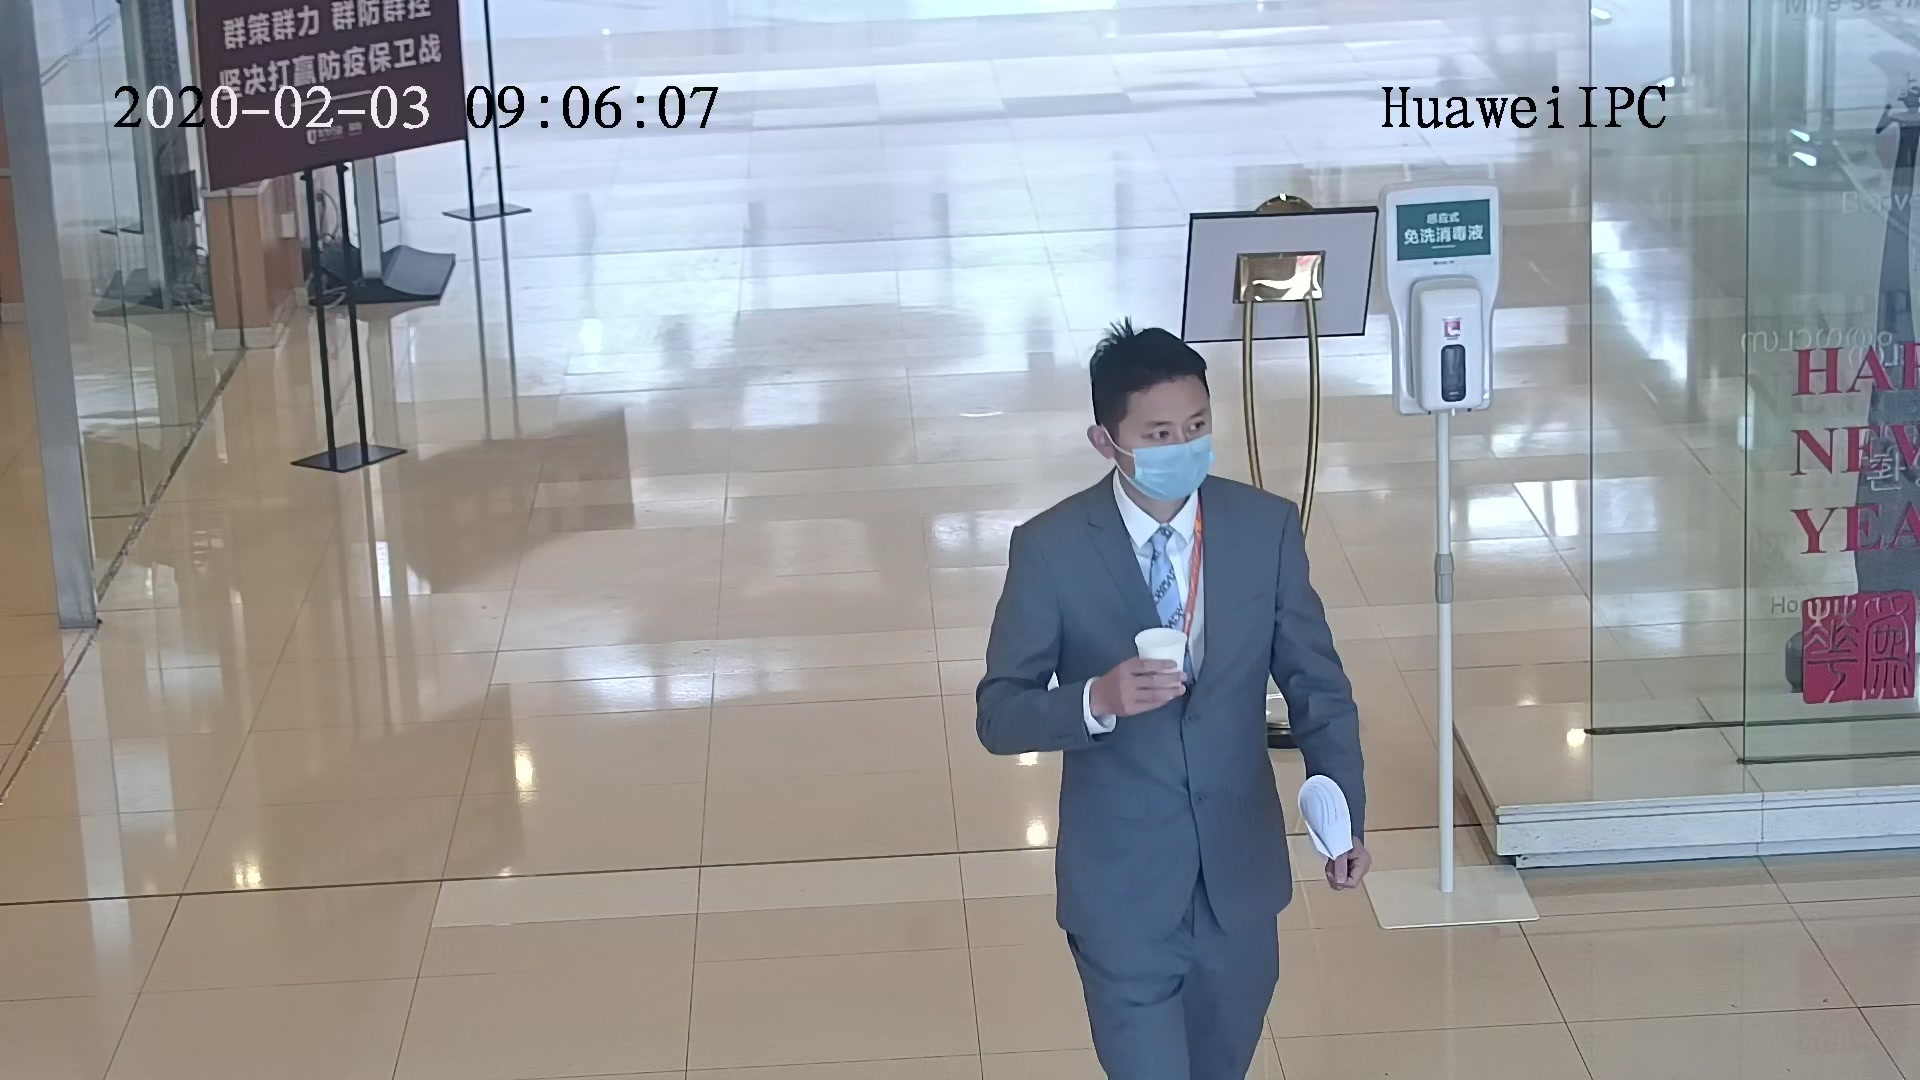face: (1111, 371, 1217, 507)
mask: (1129, 437, 1217, 503)
person: (998, 320, 1289, 594)
